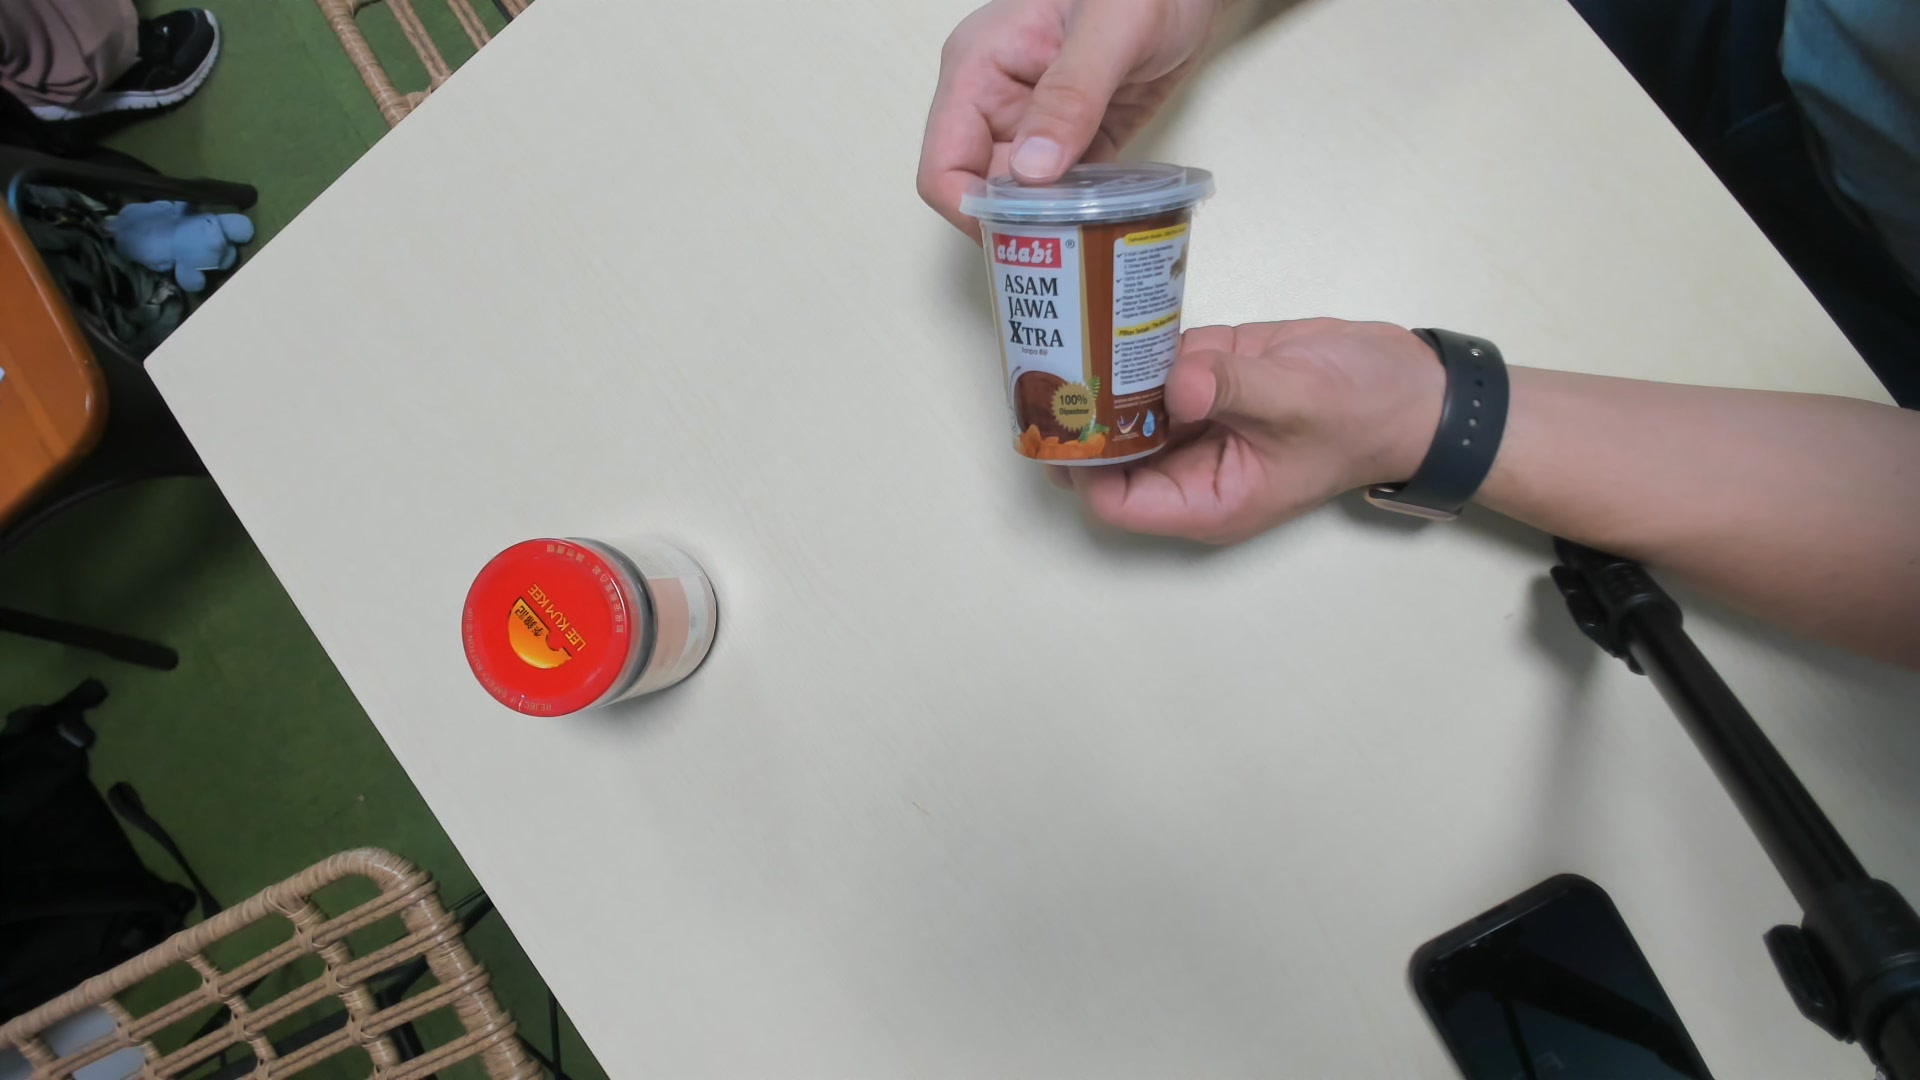OtherSauceDressing_200-299g_Halal_NonHealthy: (959, 153, 1217, 471)
